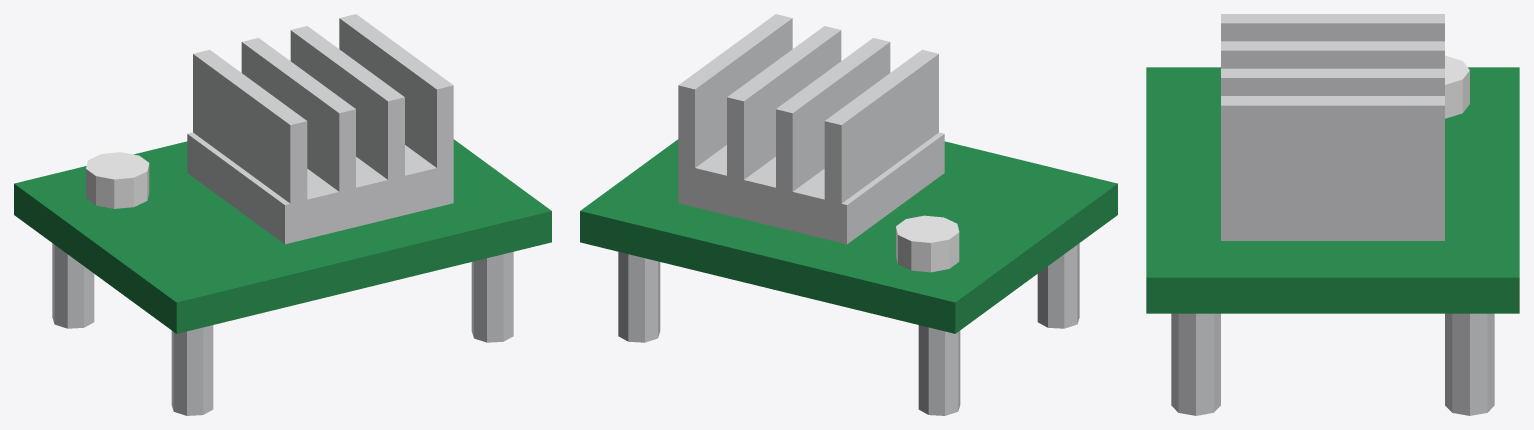
File: a4988_driver.fbx
3 views of the same model, side by side, from view 1: azimuth 30°, elevation 25°; view 2: azimuth 150°, elevation 25°; view 3: azimuth 270°, elevation 25° (orthographic). The views are drawn at different scales.
Visible parts, largest first — view 1: a4988_driver; view 2: a4988_driver; view 3: a4988_driver.
Boxes of the visible parts, x1=… form: a4988_driver: x1=14, y1=14, x2=551, y2=415; a4988_driver: x1=580, y1=14, x2=1117, y2=415; a4988_driver: x1=1146, y1=14, x2=1519, y2=415.
Size of the model in its own units: 0.02 by 0.0126 by 0.015.
